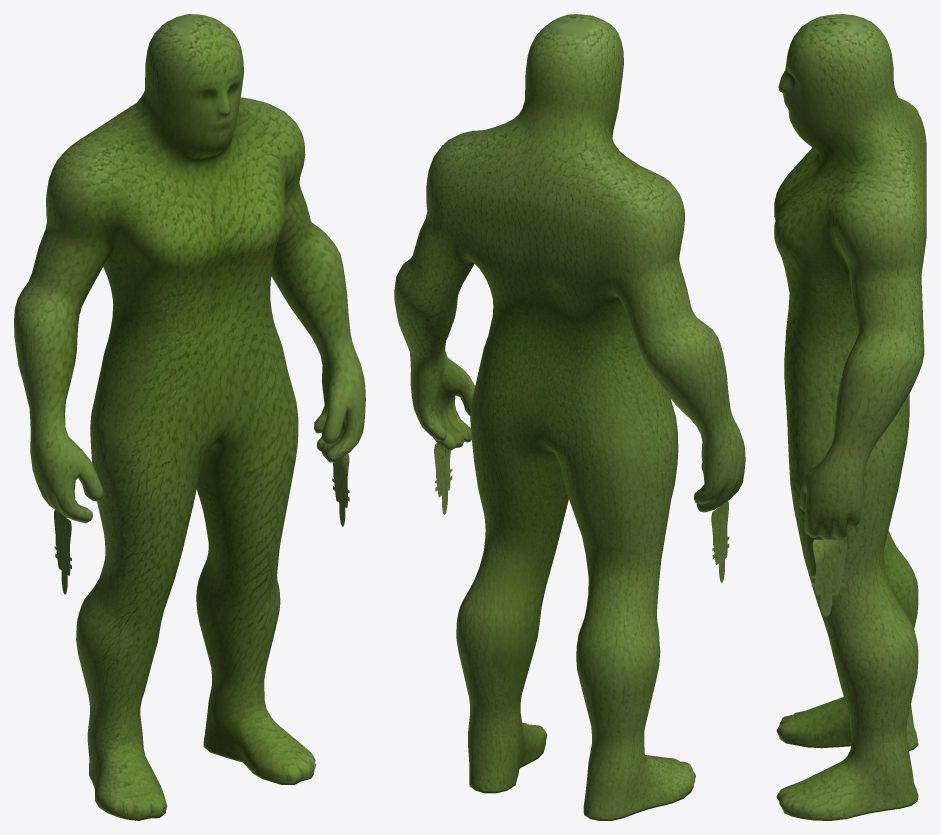
The model's file is overgrown_c6986b56_v2.glb.
3 renders of one model, left to right at view 1: azimuth 30°, elevation 25°; view 2: azimuth 150°, elevation 25°; view 3: azimuth 270°, elevation 25°, orthographic.
Visible parts, largest first — view 1: material; view 2: material; view 3: material.
Part boxes in pixels (x1=…): material: x1=14, y1=14, x2=365, y2=820; material: x1=394, y1=14, x2=745, y2=820; material: x1=774, y1=14, x2=926, y2=820.
Size of the model in its own units: 0.8533 by 1.9 by 0.3495.
Materials: 1 (1 with a texture image).
